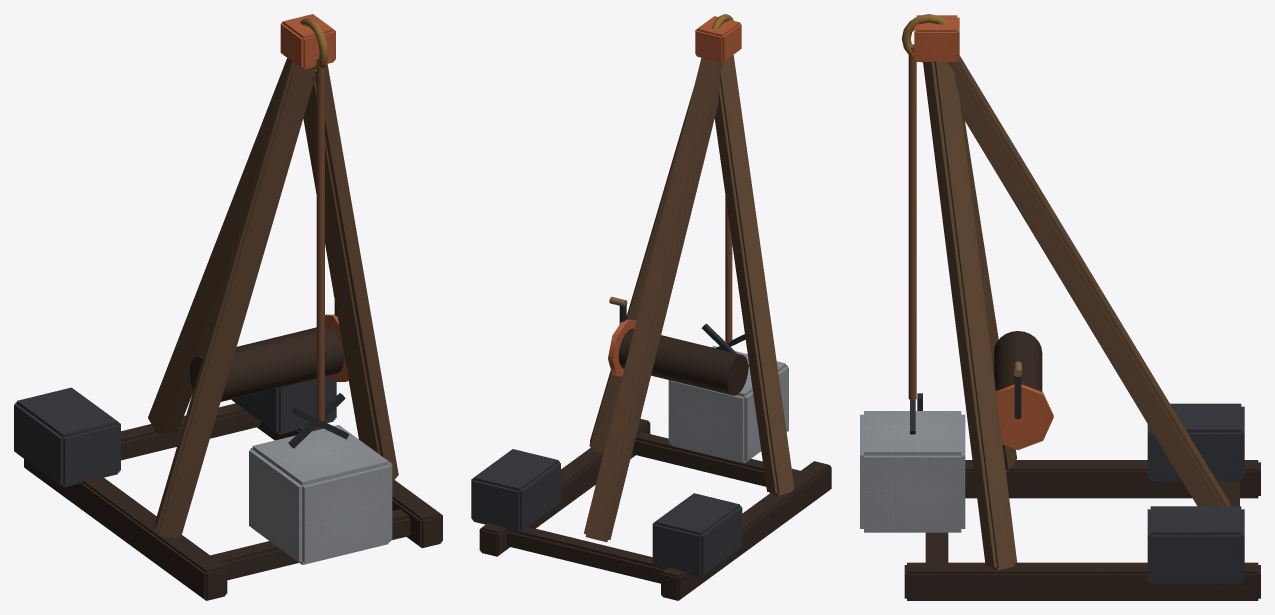
The model's file is quarry_crane_derrick.glb.
3 views of the same model, side by side, from view 1: azimuth 30°, elevation 25°; view 2: azimuth 150°, elevation 25°; view 3: azimuth 270°, elevation 25° (orthographic). The views are drawn at different scales.
Visible parts, largest first — view 1: quarry_crane_derrick; view 2: quarry_crane_derrick; view 3: quarry_crane_derrick.
Part boxes in pixels (left/top/right/bottom): quarry_crane_derrick: left=14, top=14, right=442, bottom=600; quarry_crane_derrick: left=471, top=14, right=831, bottom=600; quarry_crane_derrick: left=860, top=14, right=1260, bottom=600.
Bounding box in the file's own units: 1.92 × 3.62 × 2.48.
1 material, 1 textured.
